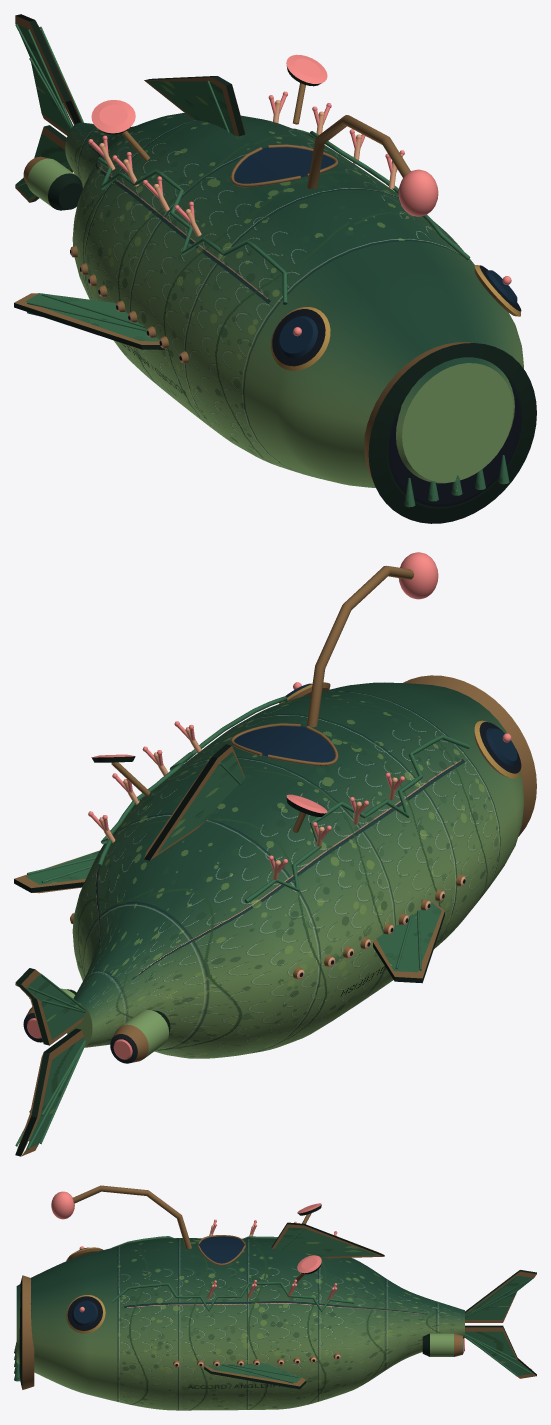
3 renders of one model, top to bottom at view 1: azimuth 30°, elevation 25°; view 2: azimuth 150°, elevation 25°; view 3: azimuth 270°, elevation 25°, orthographic. The views are drawn at different scales.
Visible parts, largest first — view 1: anglerfish_hull; view 2: anglerfish_hull; view 3: anglerfish_hull.
Part boxes in pixels (left/top/right/bottom): anglerfish_hull: left=14, top=14, right=536, bottom=523; anglerfish_hull: left=14, top=552, right=536, bottom=1156; anglerfish_hull: left=14, top=1185, right=536, bottom=1410.
Bounding box in the file's own units: 9.08 × 7.72 × 17.
1 material, 1 textured.
